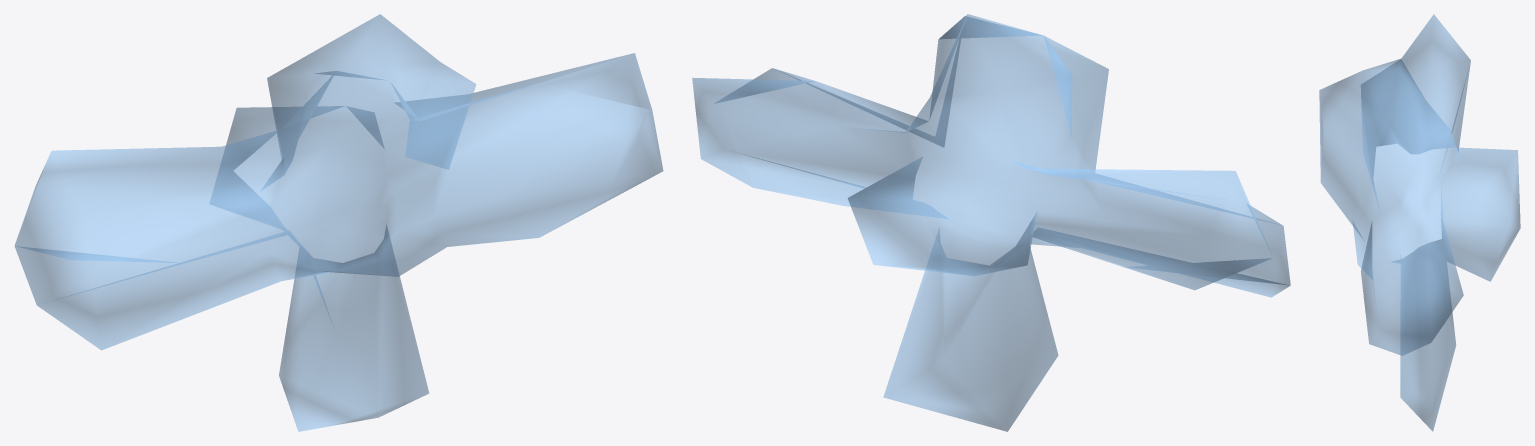
The model's file is tlsat_shield.gltf.
The picture shows the model from 3 angles, left to right: view 1: azimuth 30°, elevation 25°; view 2: azimuth 150°, elevation 25°; view 3: azimuth 270°, elevation 25°; orthographic projection. The views are drawn at different scales.
Visible parts, largest first — view 1: tlsat.shield; view 2: tlsat.shield; view 3: tlsat.shield.
Part boxes in pixels (x1,y1,x2,y2): tlsat.shield: (14, 14, 663, 431); tlsat.shield: (692, 14, 1290, 431); tlsat.shield: (1319, 14, 1520, 431).
Bounding box in the file's own units: 20.67 × 13.27 × 7.2.
